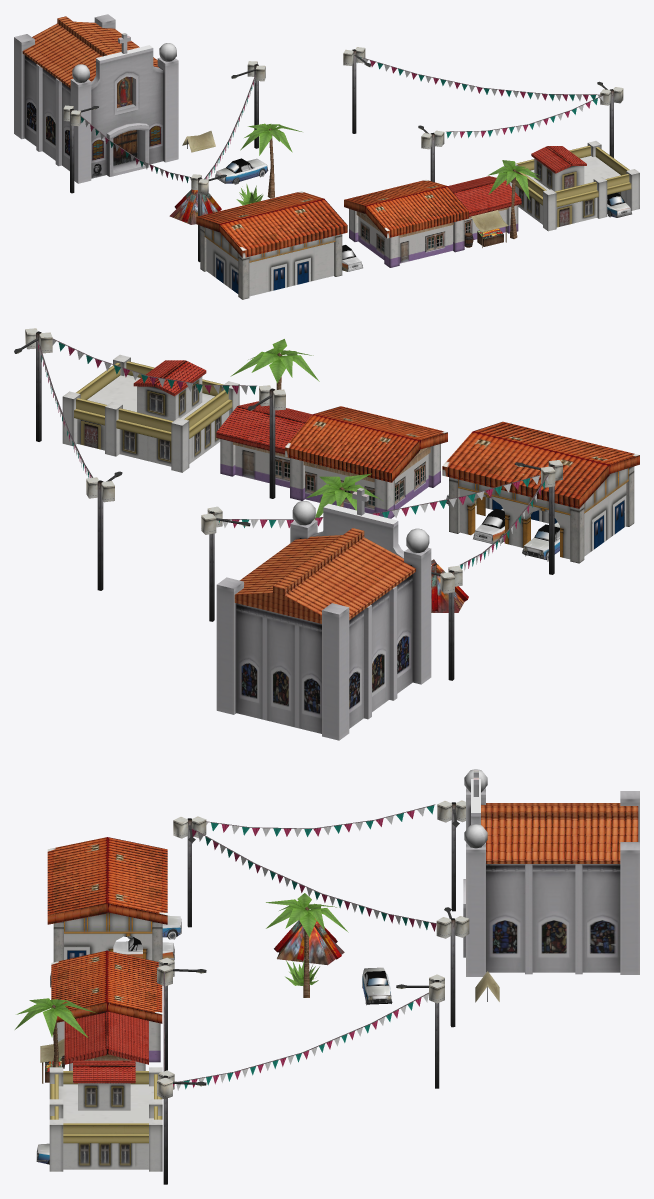
File: abajo.obj
3 renders of one model, top to bottom at view 1: azimuth 30°, elevation 25°; view 2: azimuth 150°, elevation 25°; view 3: azimuth 270°, elevation 25°, orthographic. The views are drawn at different scales.
Parts seen in each view (by area): view 1: Object_2.003, Object_2.001, Object_2.009, Object_2.011; view 2: Object_2.003, Object_2.001, Object_2.009, Object_2.011; view 3: Object_2.003, Object_2.001, Object_2.011, Object_2.009.
Part boxes in pixels (x1,y1,x2,y2): Object_2.003: (14,14,363,299); Object_2.001: (344,141,639,267); Object_2.009: (343,47,623,182); Object_2.011: (63,61,265,262); Object_2.003: (216,421,639,740); Object_2.001: (62,339,447,518); Object_2.009: (14,328,285,590); Object_2.011: (201,460,562,680); Object_2.003: (47,769,639,1005); Object_2.001: (15,950,162,1171); Object_2.011: (173,800,469,1027); Object_2.009: (157,957,444,1184).
Size of the model in its own units: 319 by 96.99 by 302.
Materials: 3 (3 with a texture image).
